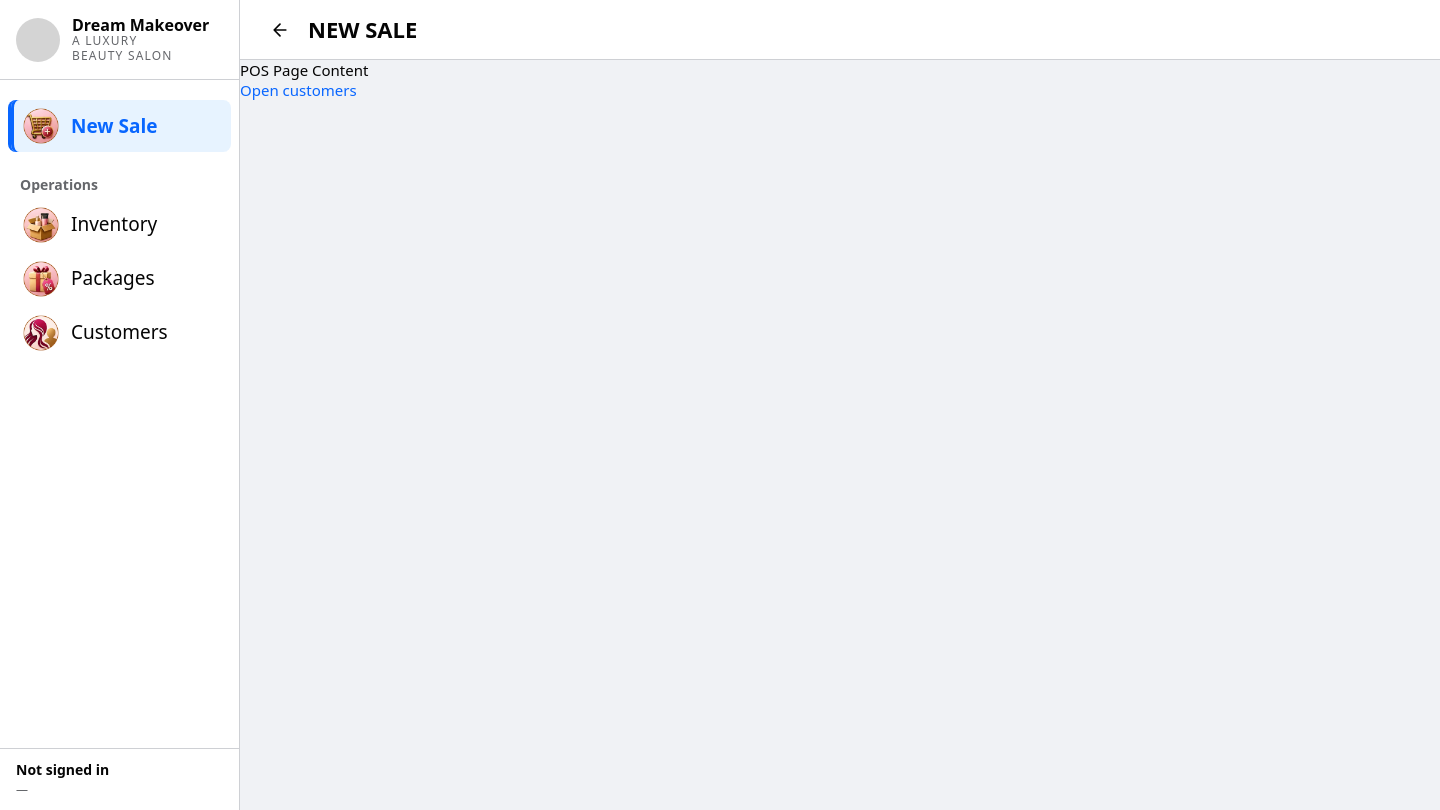
Scenario: AppLayout › navigates back to the previous app route from the topbar
Click the link "Open customers". click: (298, 90)
box: [240,80,357,100]
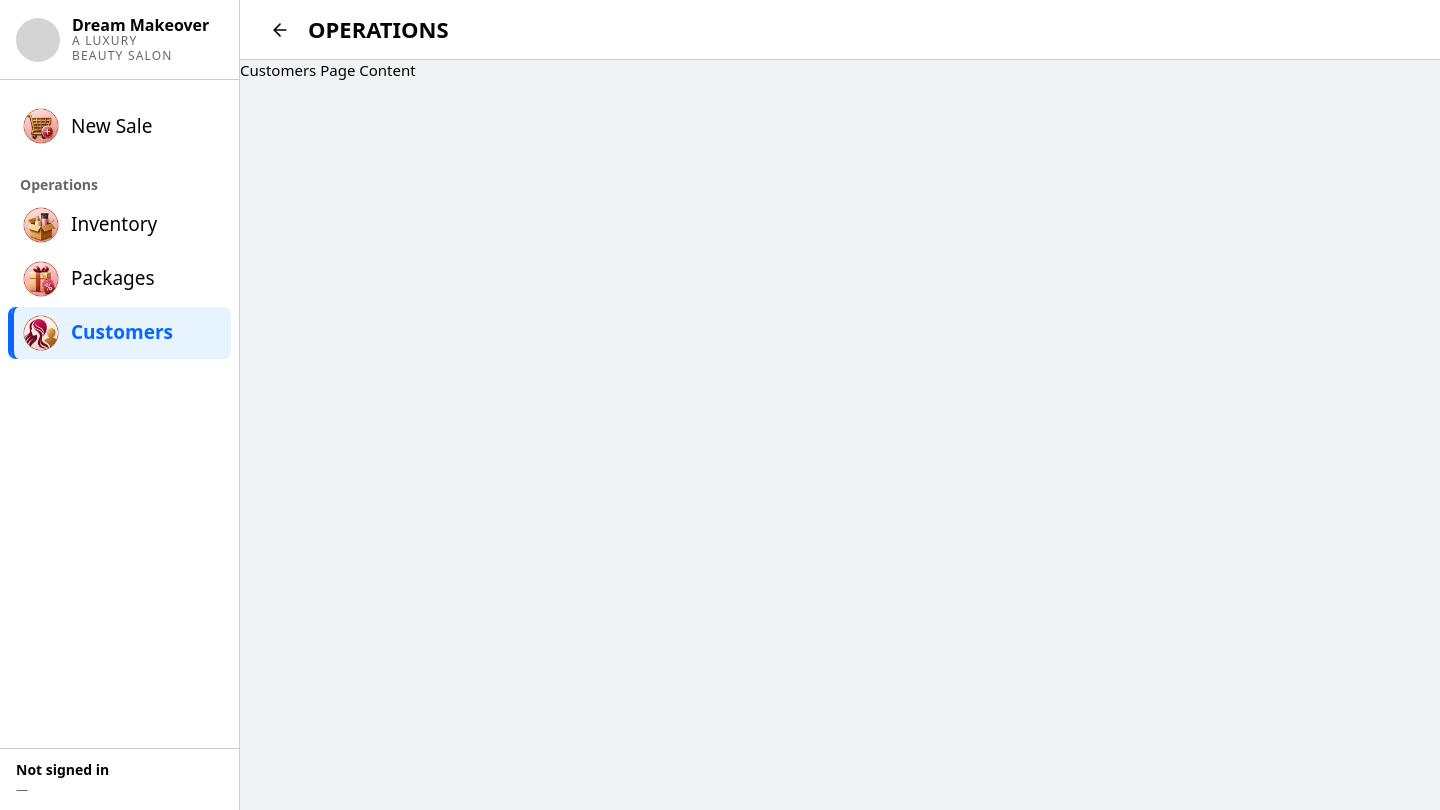
Expected: the text "Customers Page Content" is shown, [240,60,416,80]
Click the button named "go back". click: (280, 30)
box: [264,12,296,46]
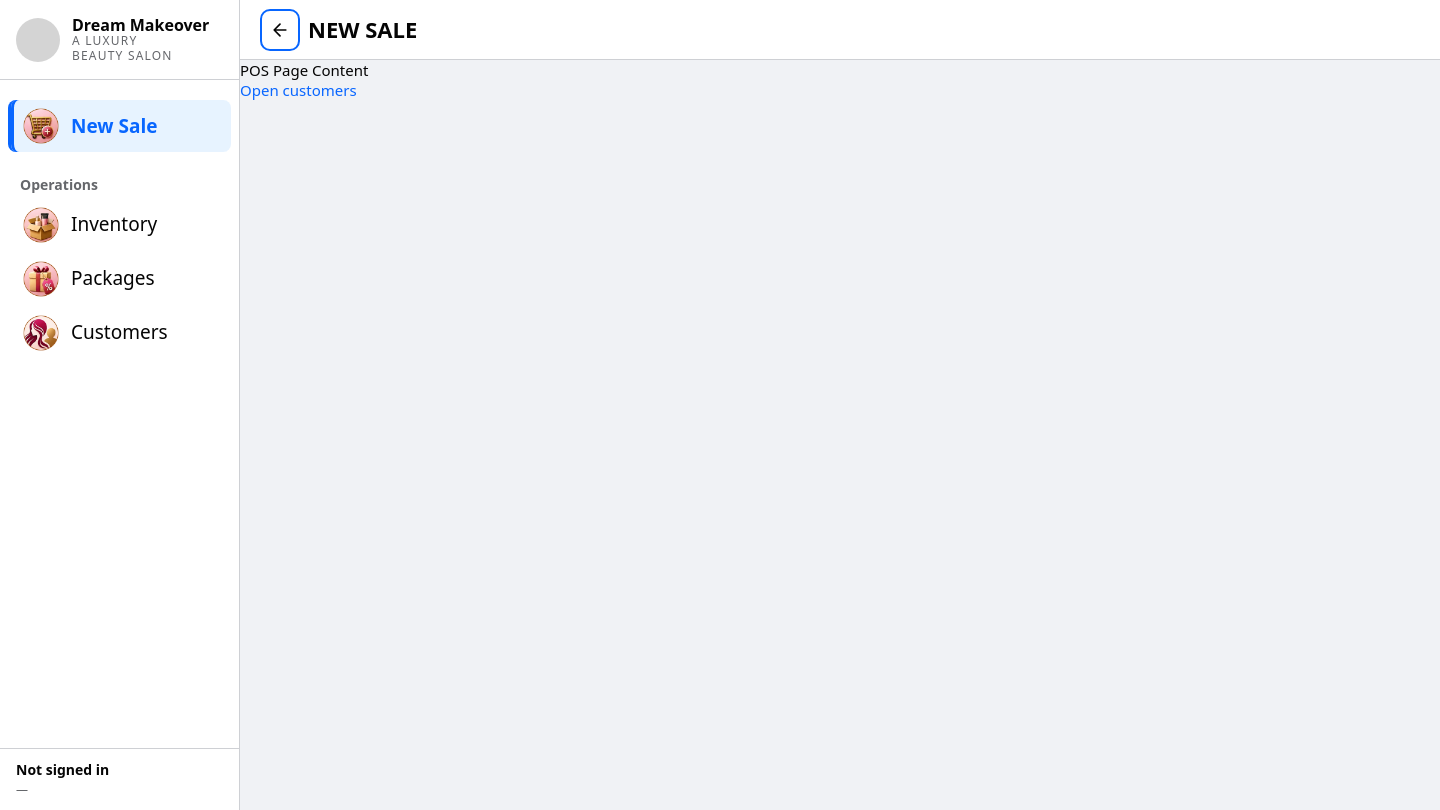
Expected: the text "POS Page Content" is shown, [240,60,368,80]
